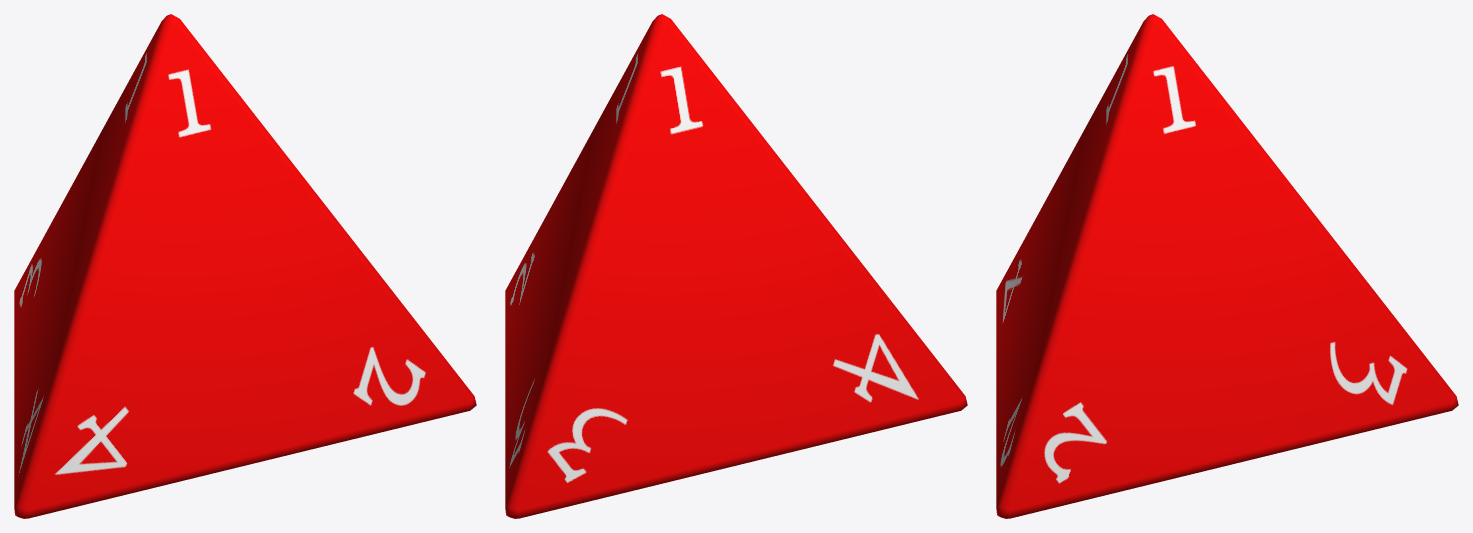
3 renders of one model, left to right at view 1: azimuth 30°, elevation 25°; view 2: azimuth 150°, elevation 25°; view 3: azimuth 270°, elevation 25°, orthographic.
Parts seen in each view (by area): view 1: D4; view 2: D4; view 3: D4.
Boxes of the visible parts, bbox=[...] form: D4: bbox=[14, 14, 476, 518]; D4: bbox=[505, 14, 967, 518]; D4: bbox=[996, 14, 1458, 518].
Bounding box in the file's own units: 0.6489 × 0.5372 × 0.5671.
Materials: 1 (1 with a texture image).
